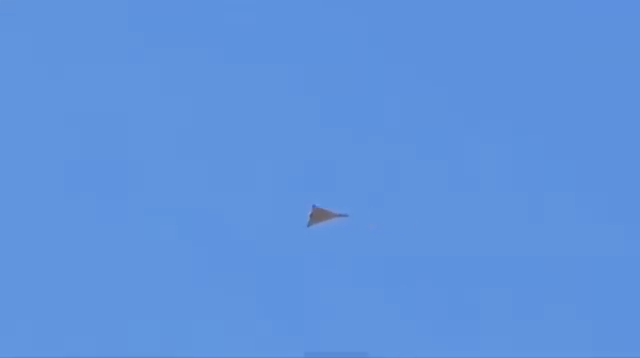shahed: (305, 202, 349, 229)
